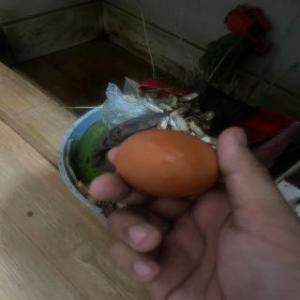egg: (114, 124, 216, 198)
